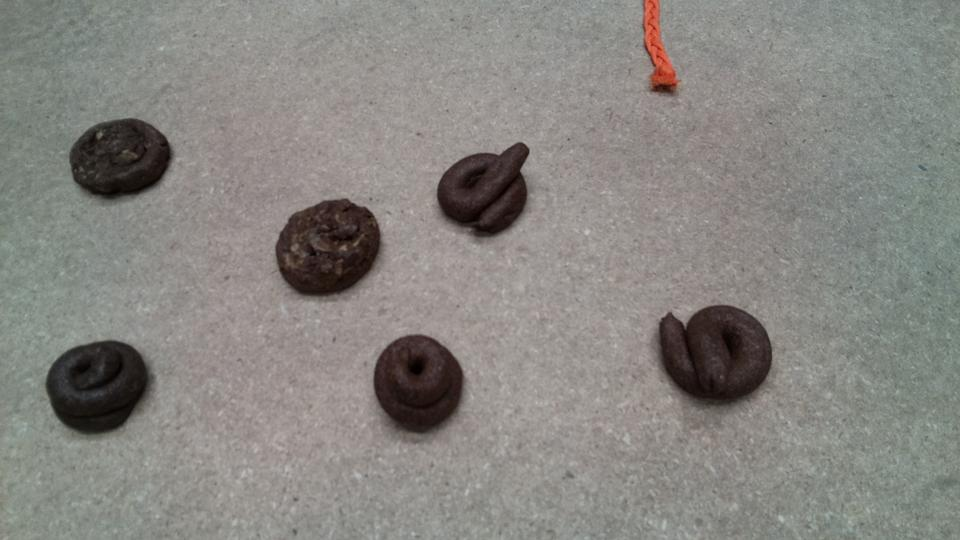poop: (656, 303, 776, 407), (273, 194, 382, 300), (43, 337, 150, 437), (434, 139, 535, 239), (370, 330, 468, 432), (64, 114, 176, 201)
rope: (640, 1, 682, 94)
